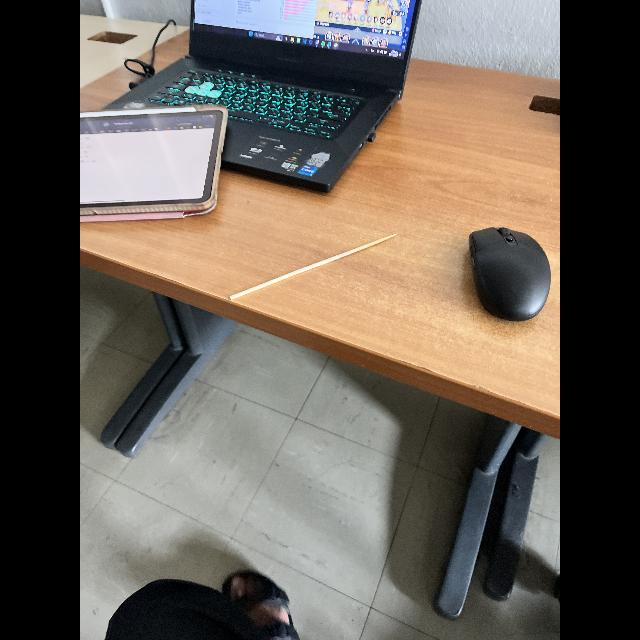stick: (220, 224, 404, 320)
